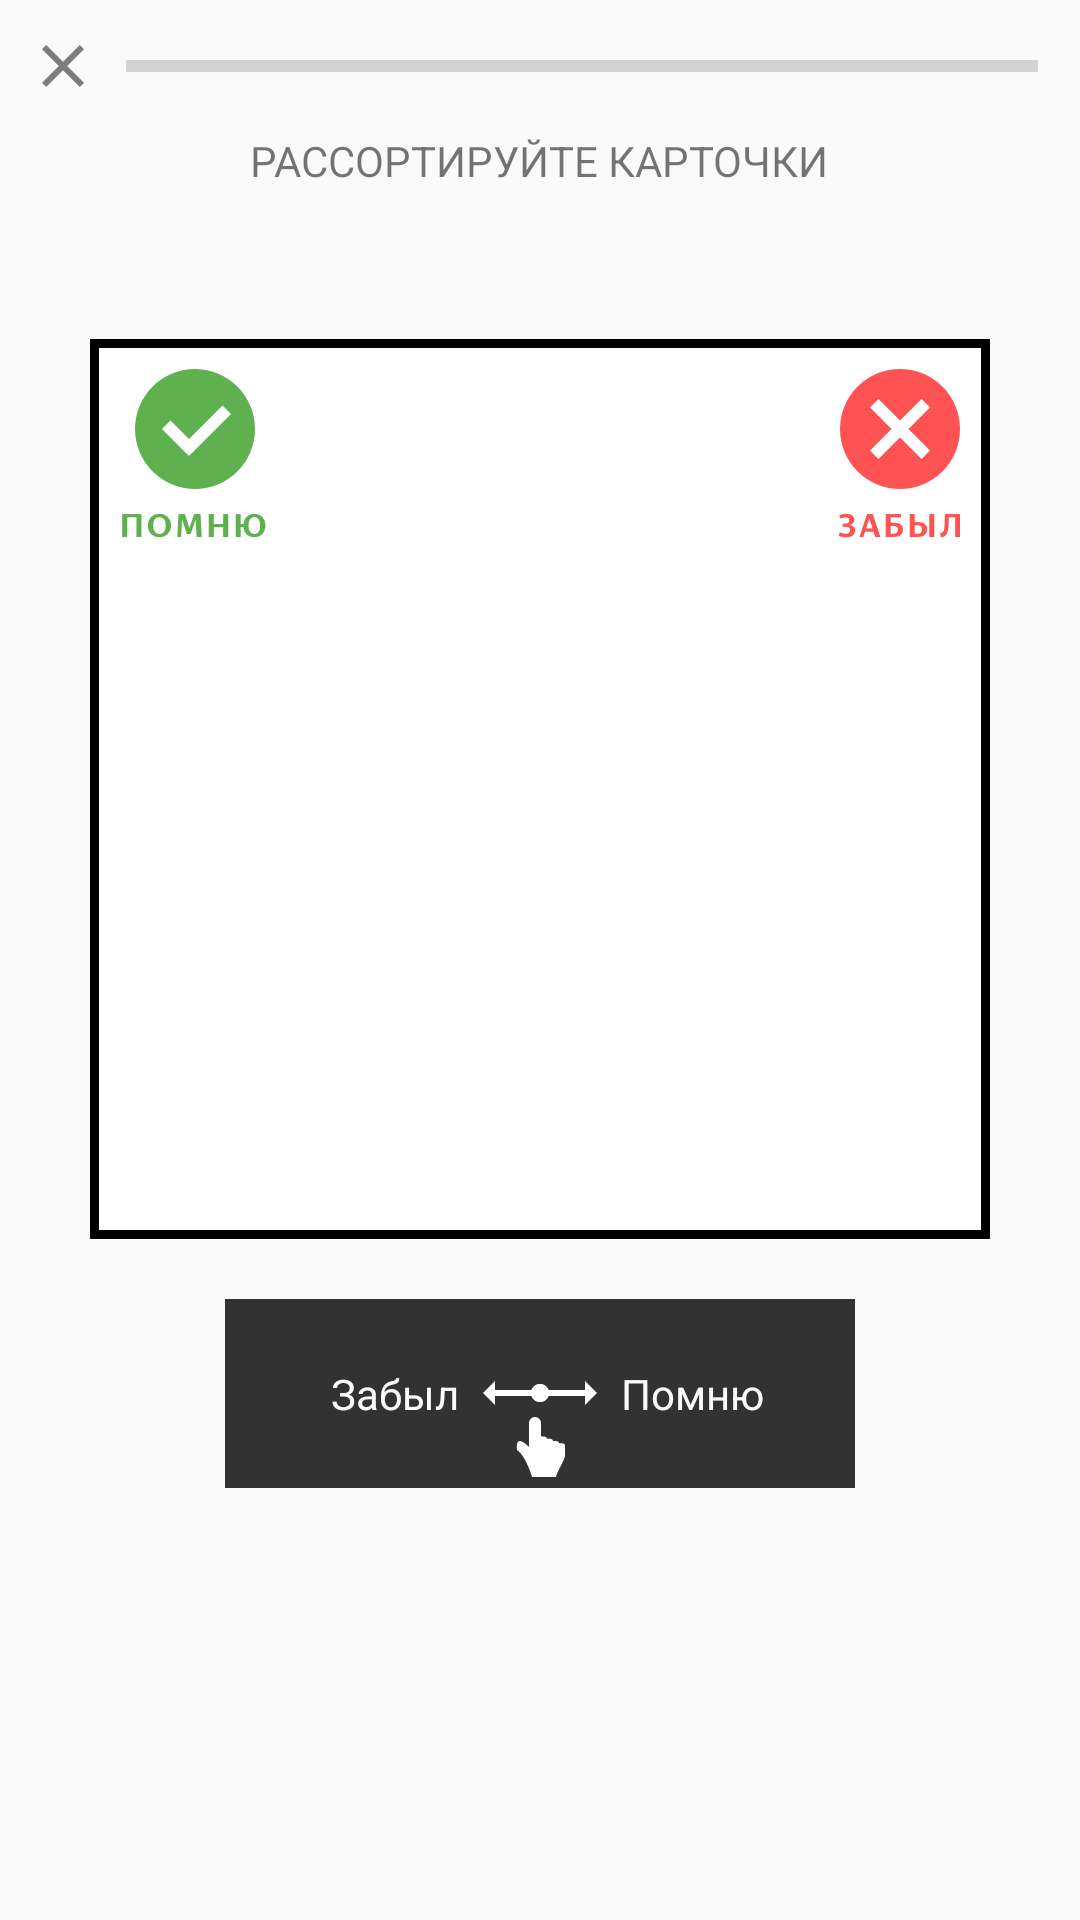

Locate icon controls on the screen. Image size 1080 x 1920, boxes as (x1, y1, x2, y2).
close: (42, 45, 84, 87)
cursor pointer: (516, 1417, 565, 1477)
false: (839, 369, 960, 538)
true: (122, 369, 266, 538)
